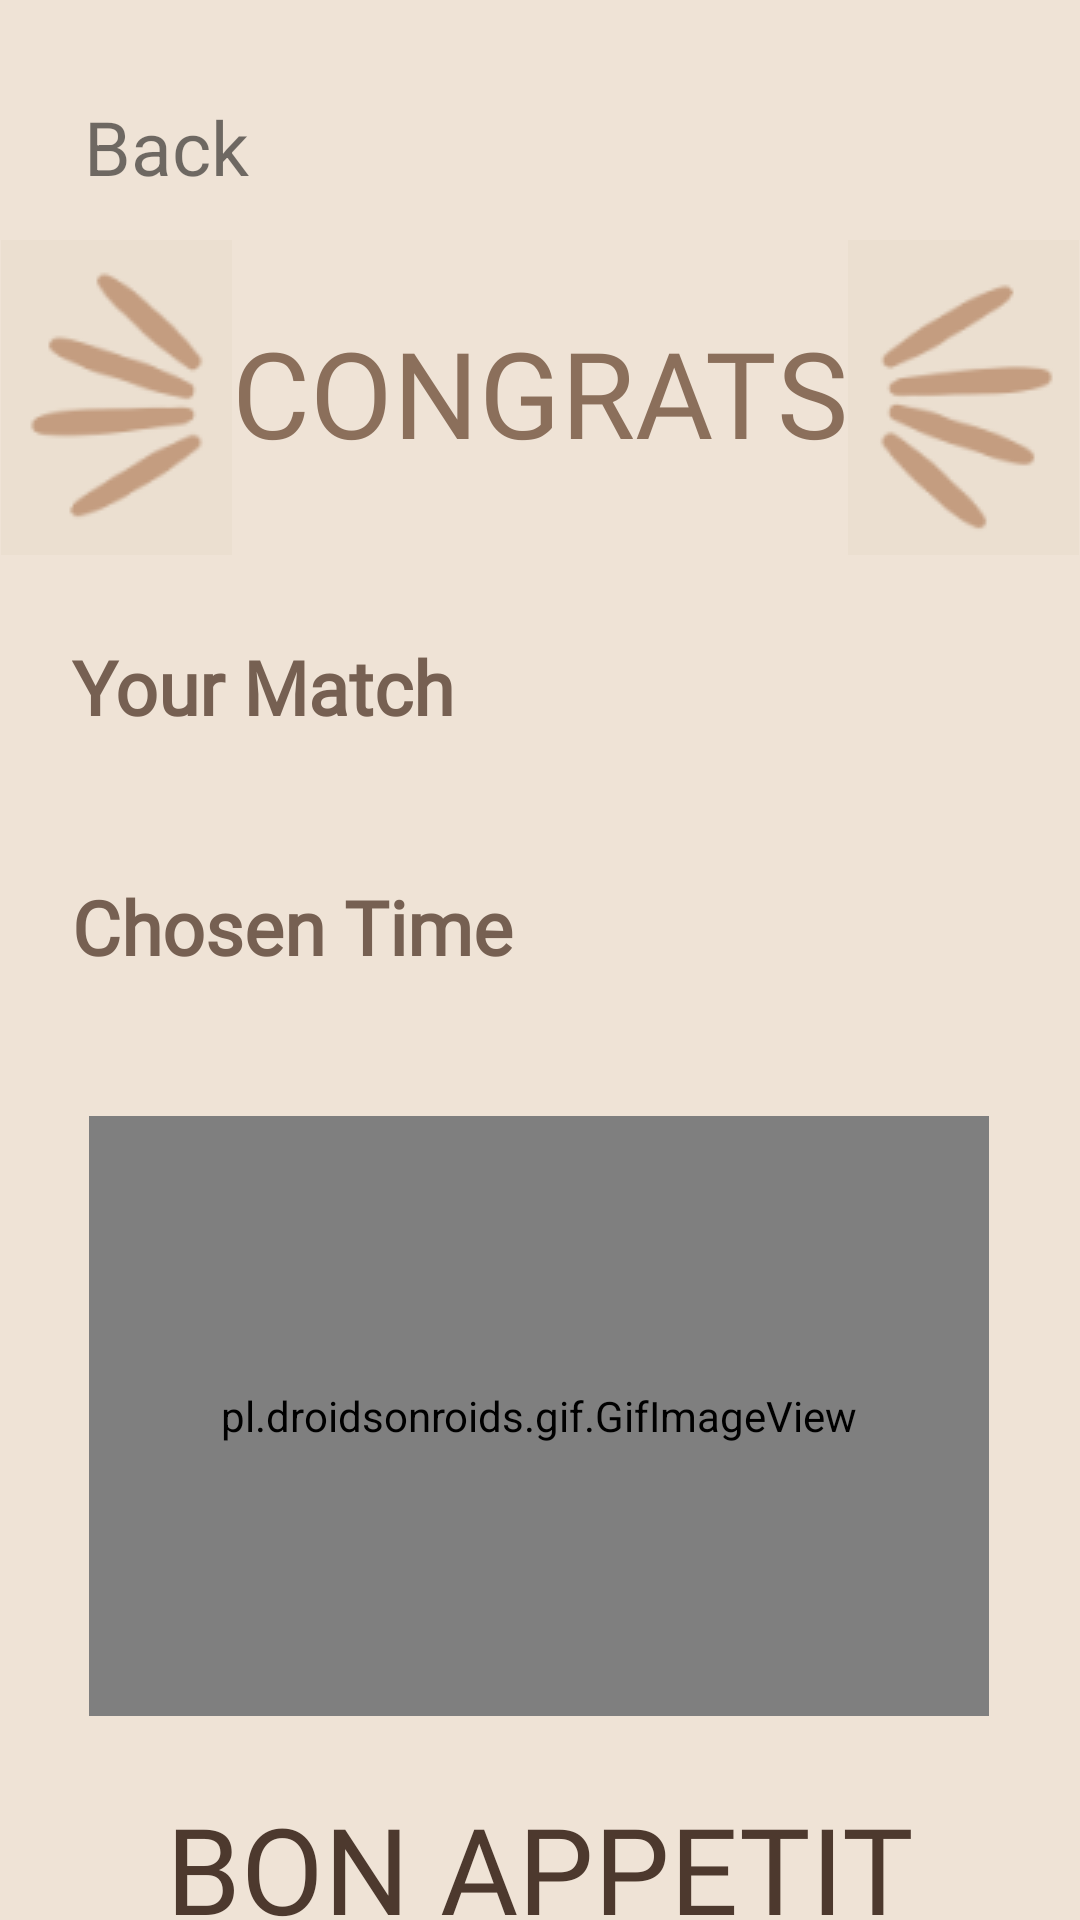

Icons on this 1080x1920 Android screen, each with its box as (x1, y1, x2, y2):
spark left: (31, 274, 202, 517)
spark right: (881, 285, 1052, 529)
